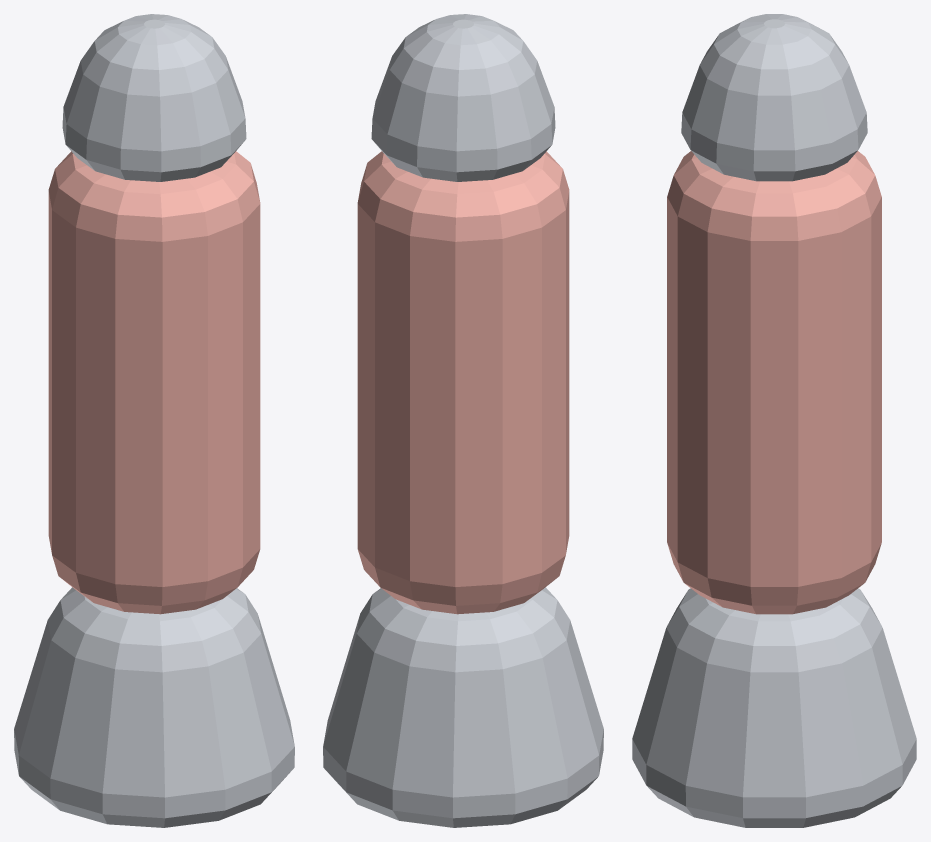
File: LavaLamp.fbx
3 views of the same model, side by side, from view 1: azimuth 30°, elevation 25°; view 2: azimuth 150°, elevation 25°; view 3: azimuth 270°, elevation 25° (orthographic).
Parts seen in each view (by area): view 1: LavaLamp; view 2: LavaLamp; view 3: LavaLamp.
Boxes of the visible parts, x1,y1,x2,y2 form: LavaLamp: (14, 14, 294, 827); LavaLamp: (323, 14, 603, 827); LavaLamp: (632, 14, 916, 827).
Size of the model in its own units: 0.1163 by 0.35 by 0.1193.
